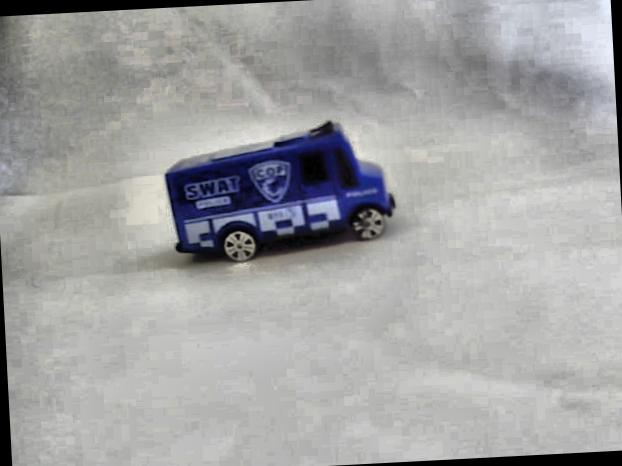police car: (153, 113, 402, 272)
